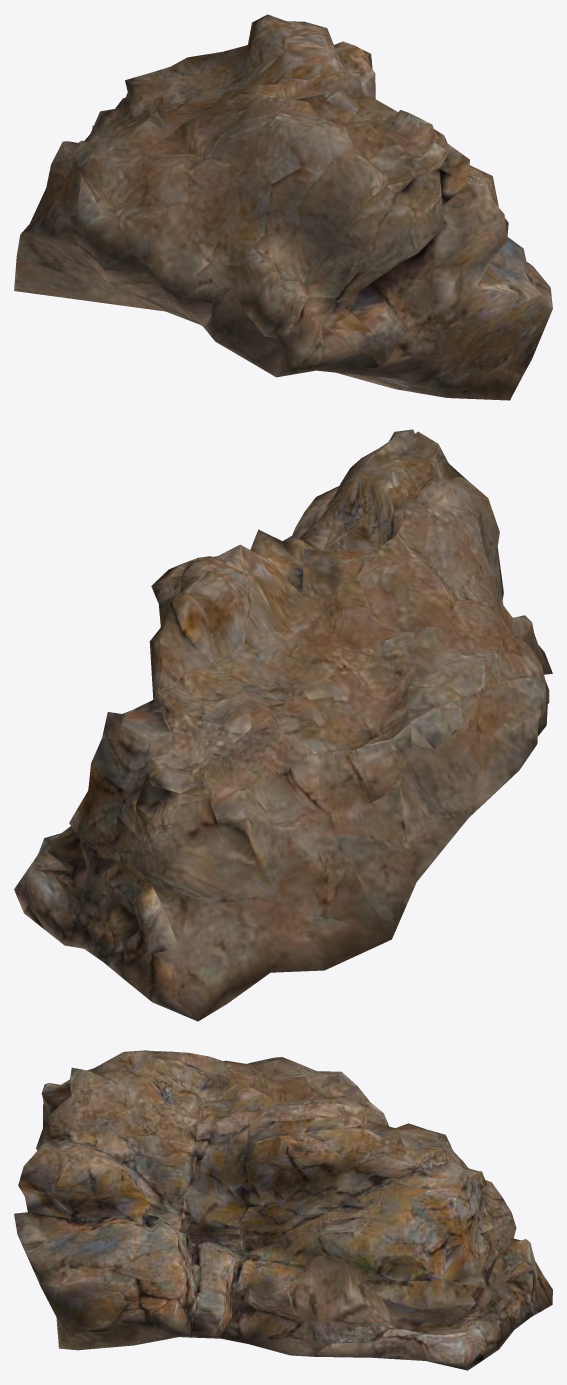
Rendered from ph_boulder.glb.
3 renders of one model, top to bottom at view 1: azimuth 30°, elevation 25°; view 2: azimuth 150°, elevation 25°; view 3: azimuth 270°, elevation 25°, orthographic. The views are drawn at different scales.
Parts seen in each view (by area): view 1: boulder_01; view 2: boulder_01; view 3: boulder_01.
Boxes of the visible parts, x1=… form: boulder_01: x1=14, y1=14, x2=552, y2=400; boulder_01: x1=14, y1=429, x2=552, y2=1021; boulder_01: x1=14, y1=1050, x2=552, y2=1370.
Size of the model in its own units: 1.27 by 1 by 1.81.
1 material, 1 textured.
